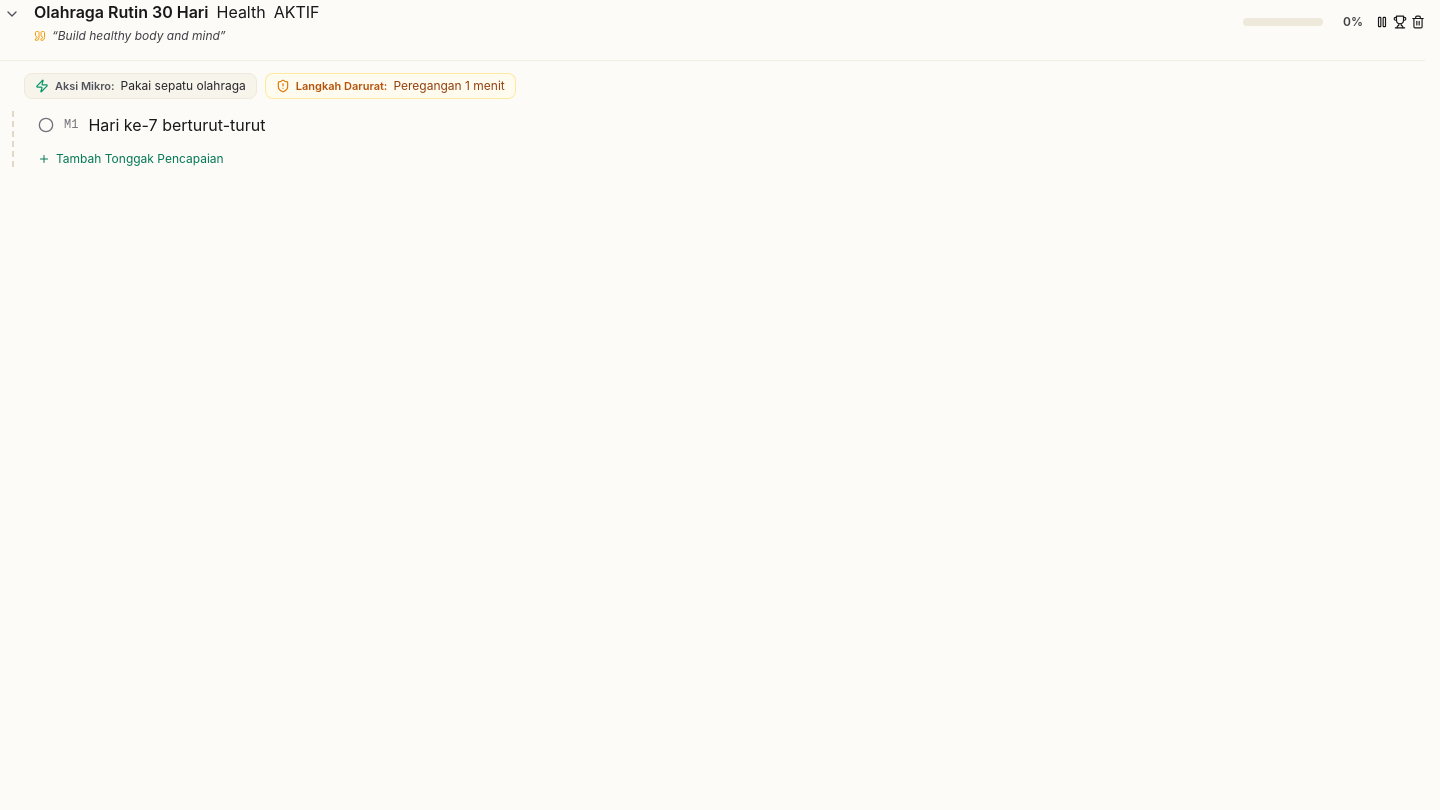
Test case: GoalTreeItem - Achieved Status & Confirmation › 1. renders active goal with trophy button and clicking it opens confirmation modal
Check: the text "AKTIF" is shown, box [274,0,320,24]
# Click trophy button (Tandai Tercapai)
Click the button named "Mark Achieved" at (1400, 22), box [1393,15,1407,29]
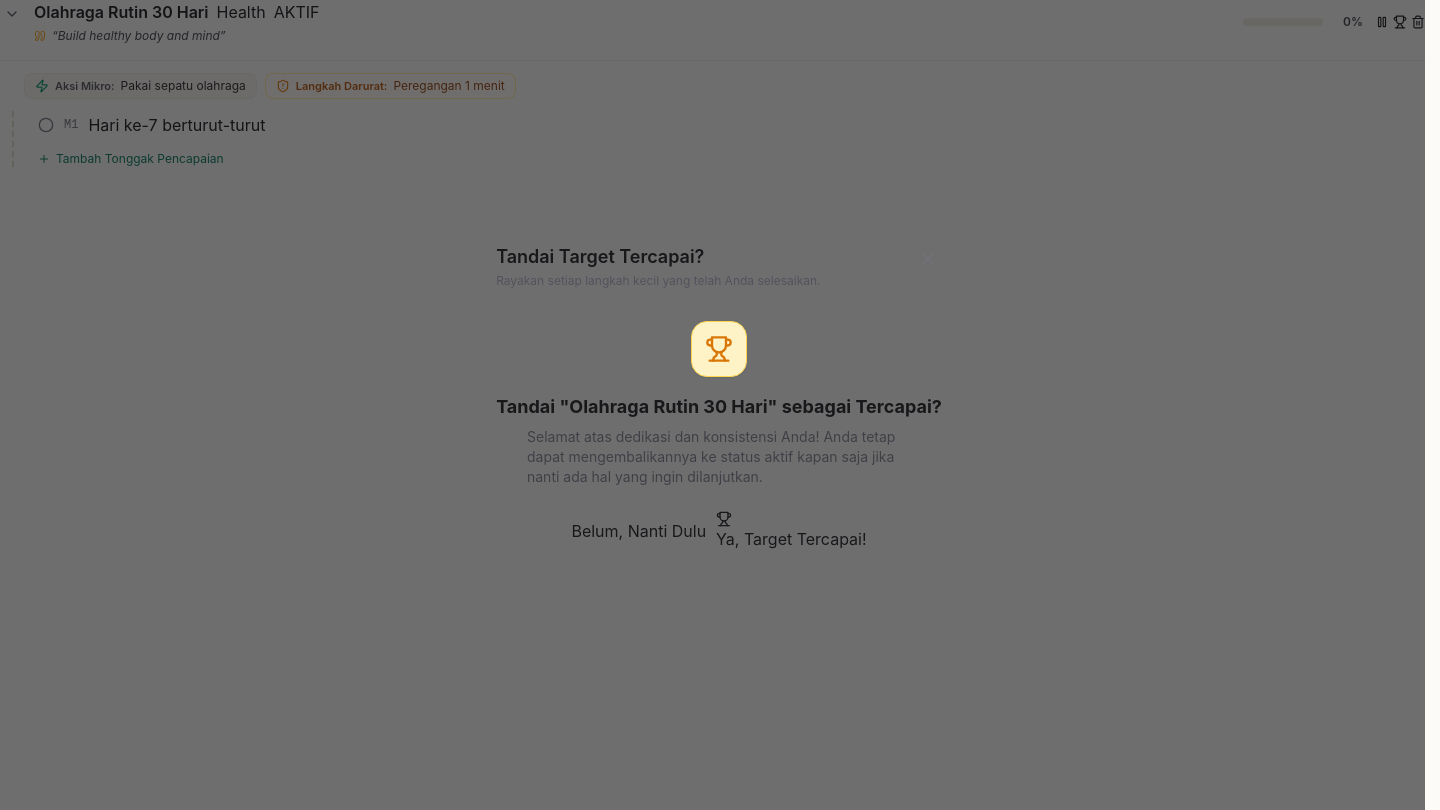
Check: the heading "Tandai \"Olahraga Rutin 30 Hari\" sebagai Tercapai?" is shown, box [496,393,942,421]
Check: the text "Selamat atas dedikasi dan konsistensi Anda!" is shown, box [527,428,896,485]
